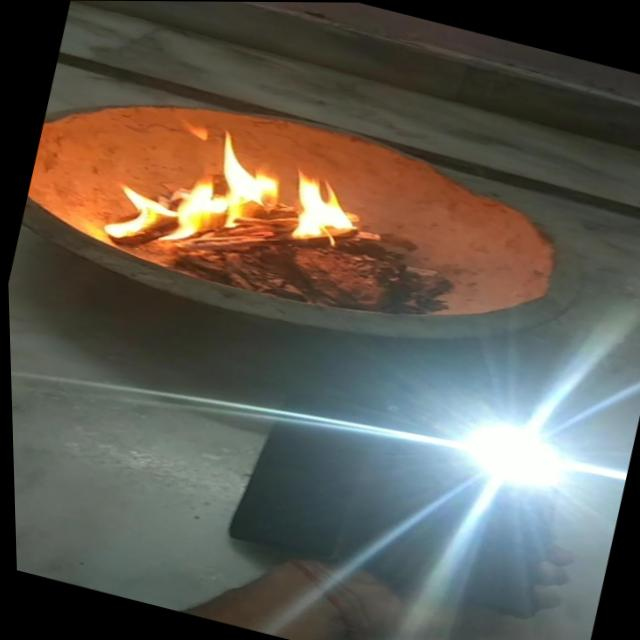fire: (93, 98, 366, 296)
